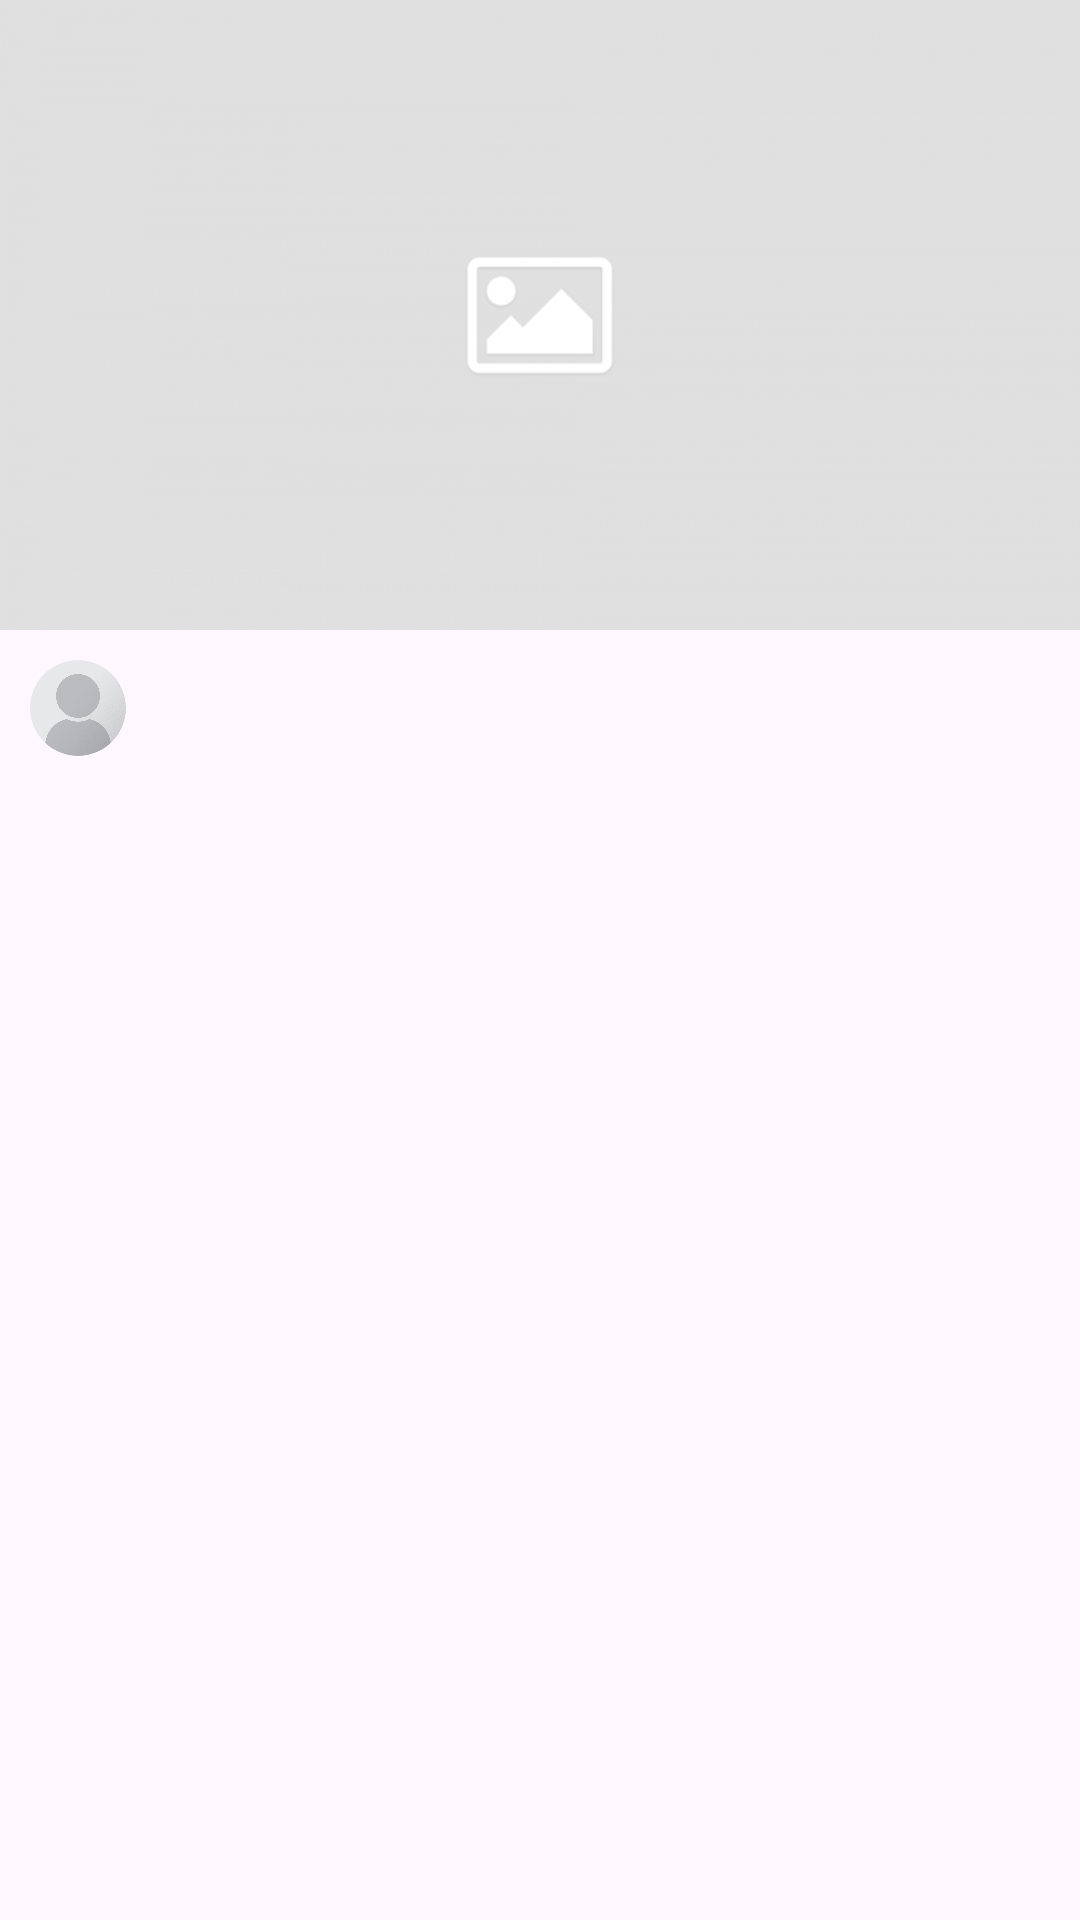

Named icons in this screenshot (1080w x 1920h) and their bounding boxes, [x1=x1, y1=y1, x2=x2, y2=y2]:
person: [x1=45, y1=669, x2=126, y2=756]
